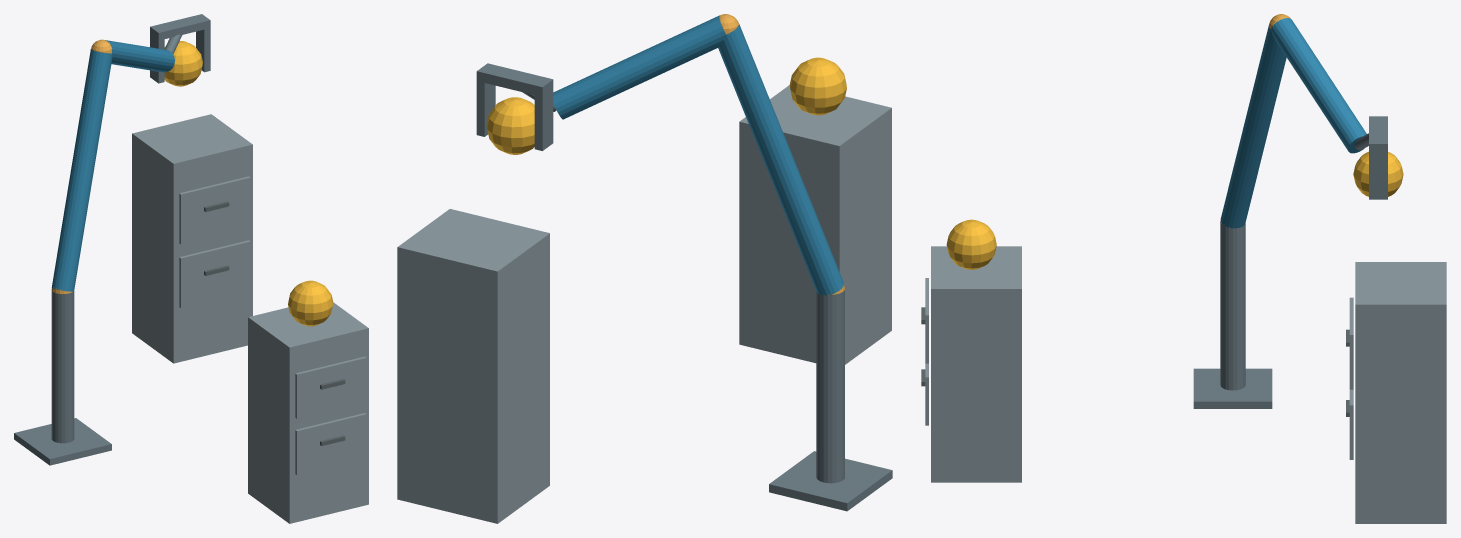
The picture shows the model from 3 angles, left to right: view 1: azimuth 30°, elevation 25°; view 2: azimuth 150°, elevation 25°; view 3: azimuth 270°, elevation 25°; orthographic projection. The views are drawn at different scales.
Visible parts, largest first — view 1: cabinet_2 body, cabinet_1 body, moving link 1, cabinet_2 drawer front.001, cabinet_2 drawer front, fixed post, cabinet_1 drawer front.001, cabinet_1 drawer front, pedestal, released ball_1, moving link 2, ball ball_2 (+2 smaller); view 2: cabinet_2 body, cabinet_1 body, moving link 1, fixed post, moving link 2, pedestal, released ball_1, ball ball_2, gripper bridge, gripper finger -1, gripper finger 1; view 3: cabinet_2 body, cabinet_1 body, moving link 1, fixed post, moving link 2, pedestal, released ball_1, ball ball_2, gripper finger 1, gripper bridge.
Part boxes in pixels (x1,y1,x2,y2): cabinet_2 body: (132, 114, 252, 363); cabinet_1 body: (248, 302, 368, 523); moving link 1: (51, 49, 112, 291); cabinet_2 drawer front.001: (179, 176, 250, 244); cabinet_2 drawer front: (179, 240, 250, 308); fixed post: (51, 290, 74, 443); cabinet_1 drawer front.001: (295, 356, 366, 418); cabinet_1 drawer front: (295, 413, 366, 475); pedestal: (14, 418, 111, 465); released ball_1: (288, 280, 333, 326); moving link 2: (105, 40, 174, 72); ball ball_2: (164, 41, 202, 86); cabinet_2 body: (397, 209, 549, 523); cabinet_1 body: (739, 85, 891, 364); moving link 1: (718, 24, 844, 295); fixed post: (816, 290, 844, 483); moving link 2: (553, 15, 725, 119); pedestal: (769, 451, 892, 511); released ball_1: (789, 57, 846, 115); ball ball_2: (486, 97, 534, 154); gripper bridge: (476, 63, 553, 96); gripper finger -1: (534, 89, 553, 150); gripper finger 1: (476, 81, 495, 136); cabinet_2 body: (1355, 262, 1446, 523); cabinet_1 body: (931, 246, 1021, 482); moving link 1: (1220, 23, 1286, 228); fixed post: (1220, 222, 1245, 390); moving link 2: (1271, 18, 1366, 153); pedestal: (1193, 368, 1272, 408); released ball_1: (946, 219, 996, 269); ball ball_2: (1353, 151, 1403, 196); gripper finger 1: (1369, 152, 1387, 199); gripper bridge: (1369, 116, 1387, 152).
Size of the model in its own units: 1.12 by 1.44 by 1.67.
